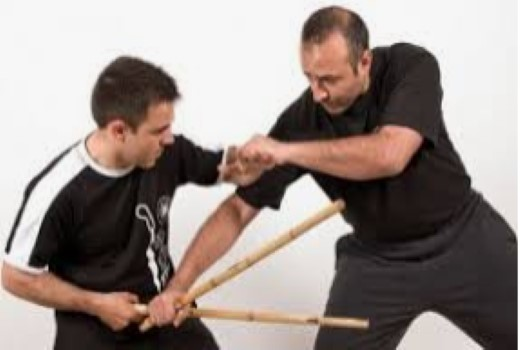baston_e: (193, 198, 333, 304), (191, 305, 348, 334)
baston_v: (323, 189, 353, 214), (132, 315, 159, 336), (356, 312, 374, 331)
